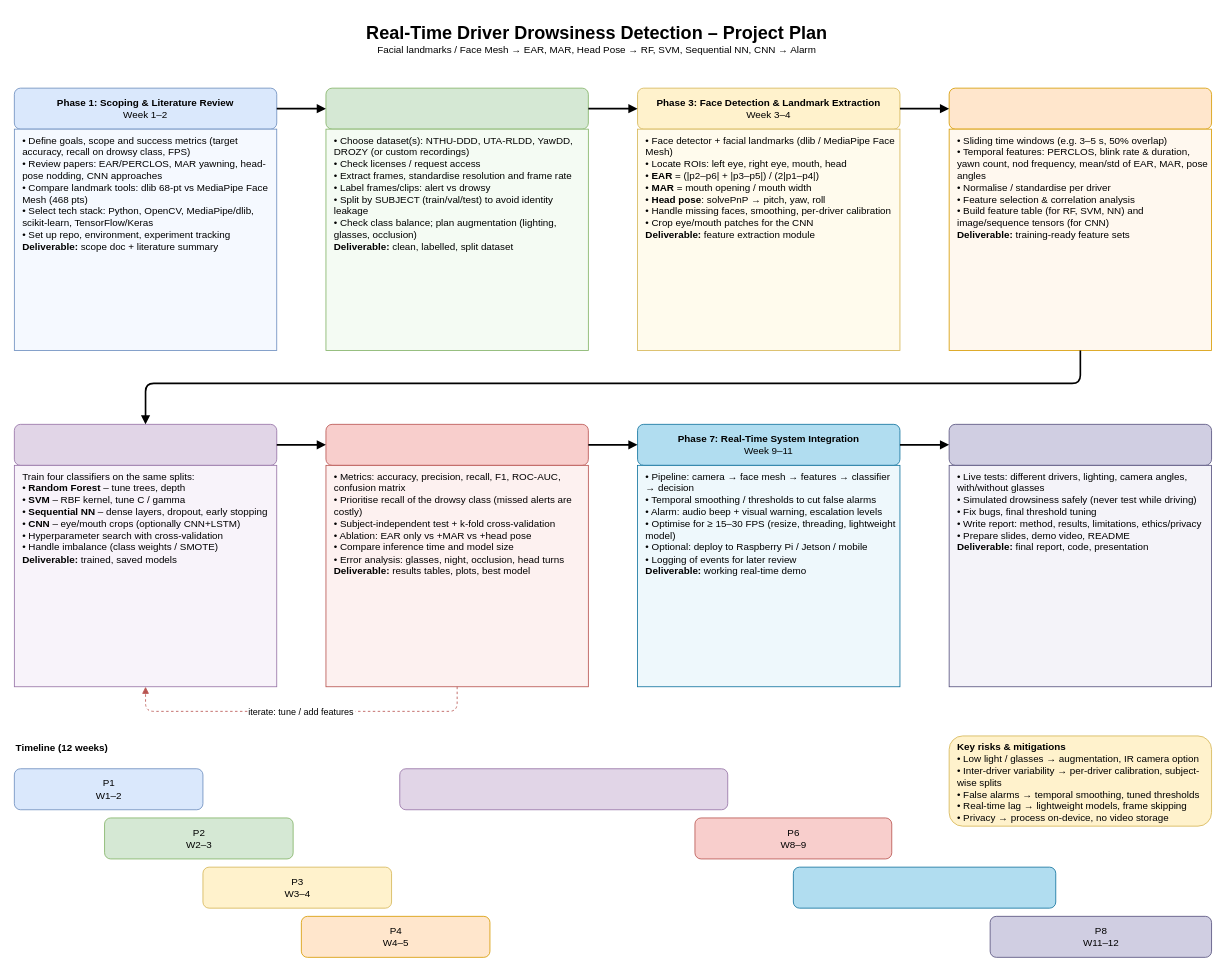
Image size: 1226x972. Some labels were removed from this diagram. The centre of each missing label's shape, as x and y in pixels:
P5 W5–8: pixel 563 789
P7 W9–11: pixel 924 887
Phase 2: Dataset Acquisition & Preparation Week 2–3: pixel 456 108
Phase 4: Feature Engineering Week 4–5: pixel 1080 108
Phase 5: Model Development Week 5–8: pixel 145 444
Phase 6: Evaluation & Comparison Week 8–9: pixel 456 444
Phase 8: Testing, Documentation & Delivery Week 11–12: pixel 1080 444
